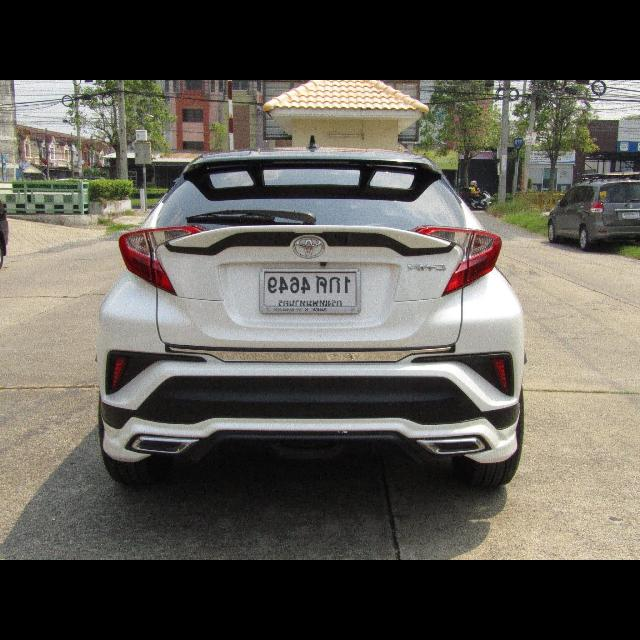cars: (89, 126, 538, 500)
